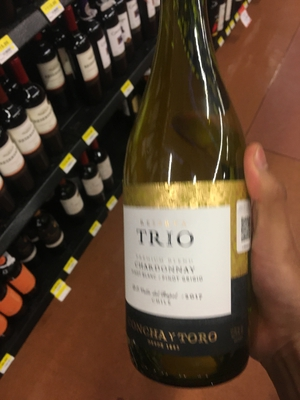trio chardonnay: (124, 22, 278, 376)
